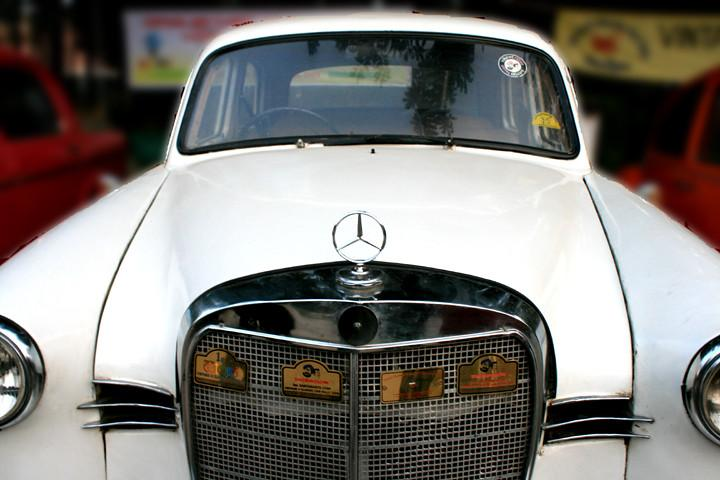car: (1, 10, 719, 480), (1, 45, 129, 266), (615, 63, 720, 254)
